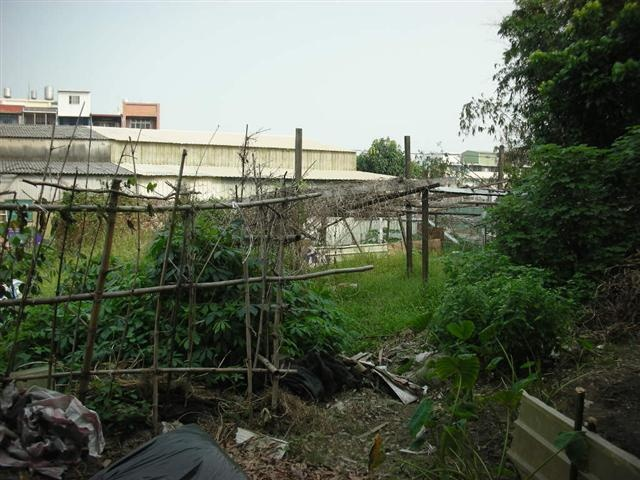plastic_bag: (2, 381, 107, 480)
water_tower: (42, 85, 55, 101), (3, 86, 12, 100), (29, 87, 38, 99)
